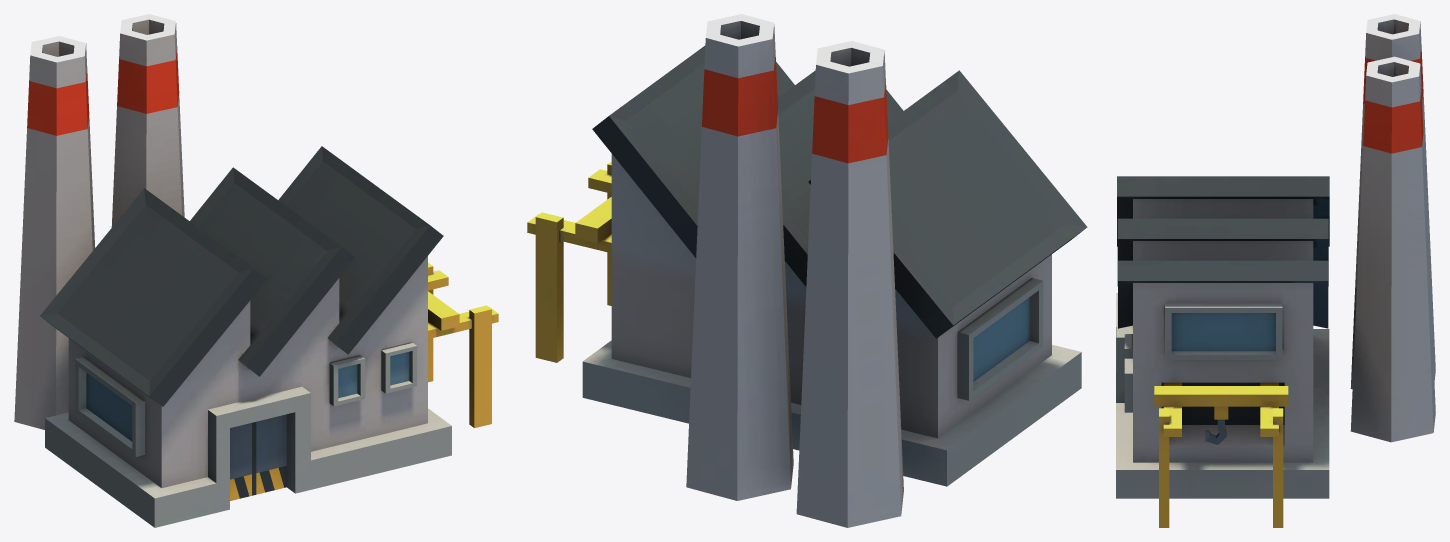
The model's file is factory.glb.
The picture shows the model from 3 angles, left to right: view 1: azimuth 30°, elevation 25°; view 2: azimuth 150°, elevation 25°; view 3: azimuth 270°, elevation 25°; orthographic projection. The views are drawn at different scales.
Parts seen in each view (by area): view 1: factory; view 2: factory; view 3: factory.
Part boxes in pixels (x1,y1,x2,y2): factory: (14,14,498,527); factory: (527,14,1087,527); factory: (1116,14,1435,527).
Size of the model in its own units: 1.82 by 1.69 by 1.39.
Materials: 1 (1 with a texture image).
